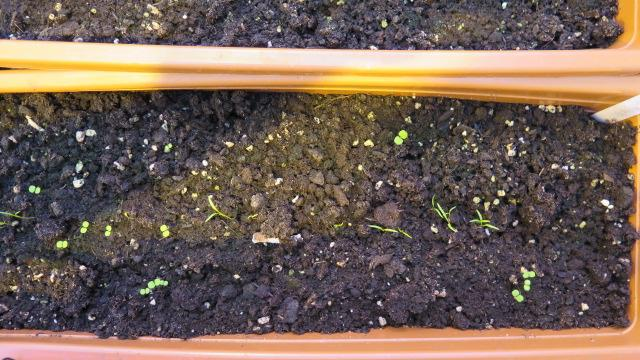weed: (388, 126, 409, 146), (24, 182, 43, 194), (157, 222, 172, 237), (51, 238, 70, 249), (100, 222, 112, 238), (77, 218, 89, 233), (520, 276, 532, 290)
